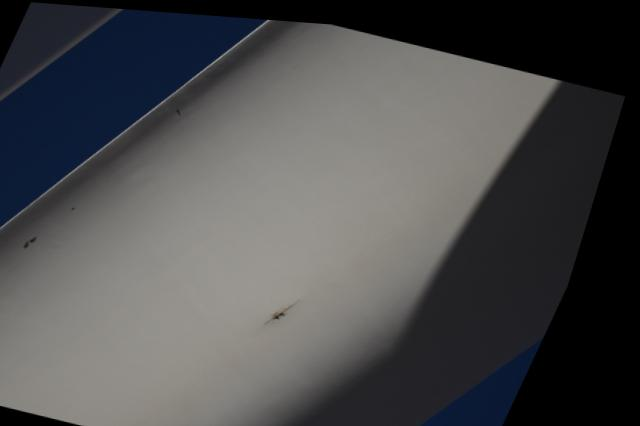damage: (277, 288, 315, 325)
